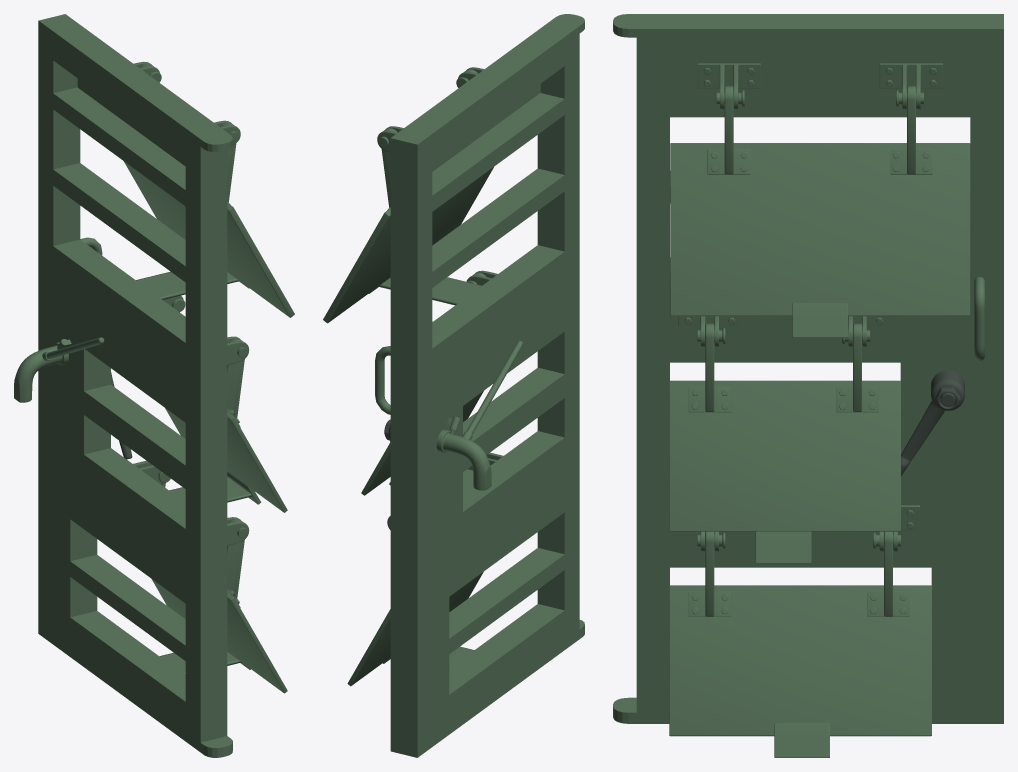
File: 悬板活门.glb
3 views of the same model, side by side, from view 1: azimuth 30°, elevation 25°; view 2: azimuth 150°, elevation 25°; view 3: azimuth 270°, elevation 25° (orthographic). The views are drawn at different scales.
Visible parts, largest first — view 1: 3悬板活门.001, Bolt 3.008, Bolt 3.005, 平面.003, 圆环.003, Bolt 3.007, Bolt 3.009; view 2: 3悬板活门.001, Bolt 3.008, 圆环.003, Bolt 3.005, 平面.003, Bolt 3.007, 圆环.004; view 3: 3悬板活门.001, Bolt 3.008, Bolt 3.005, 平面.003, 柱体.007, Bolt 3.004, Bolt 3.007, Bolt 3.009, 圆环.004.
Part boxes in pixels (x1,y1,x2,y2): 3悬板活门.001: [38, 14, 232, 757]; Bolt 3.008: [123, 61, 294, 317]; Bolt 3.005: [133, 460, 287, 693]; 平面.003: [163, 295, 287, 512]; 圆环.003: [14, 337, 104, 402]; Bolt 3.007: [136, 271, 249, 299]; Bolt 3.009: [169, 471, 261, 504]; 3悬板活门.001: [390, 14, 584, 757]; Bolt 3.008: [323, 67, 493, 323]; 圆环.003: [436, 340, 523, 490]; Bolt 3.005: [347, 452, 503, 686]; 平面.003: [361, 270, 497, 495]; Bolt 3.007: [368, 277, 481, 305]; 圆环.004: [375, 346, 390, 414]; 3悬板活门.001: [613, 14, 1003, 723]; Bolt 3.008: [670, 63, 970, 316]; Bolt 3.005: [669, 505, 931, 736]; 平面.003: [669, 316, 900, 531]; 柱体.007: [901, 370, 964, 475]; Bolt 3.004: [774, 723, 829, 757]; Bolt 3.007: [792, 303, 847, 337]; Bolt 3.009: [755, 531, 811, 563]; 圆环.004: [974, 277, 984, 360].
Size of the model in its own units: 0.7037 by 2.47 by 1.26.
